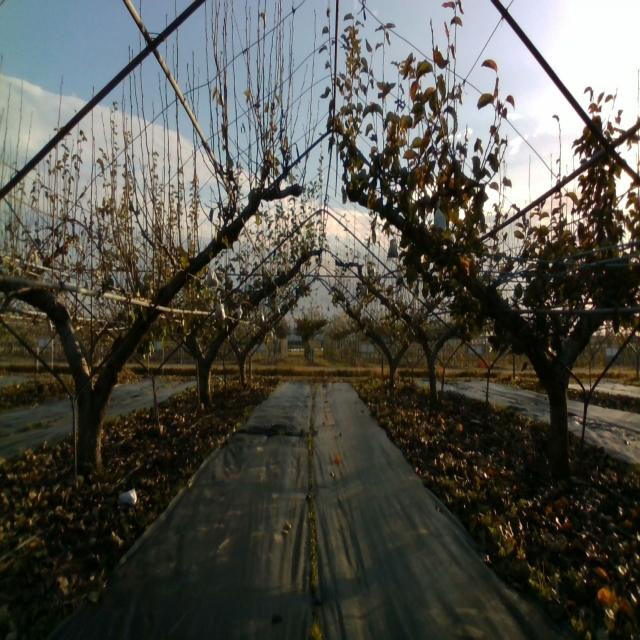pearbags: (433, 208, 447, 232), (214, 298, 226, 319), (206, 268, 218, 287)
